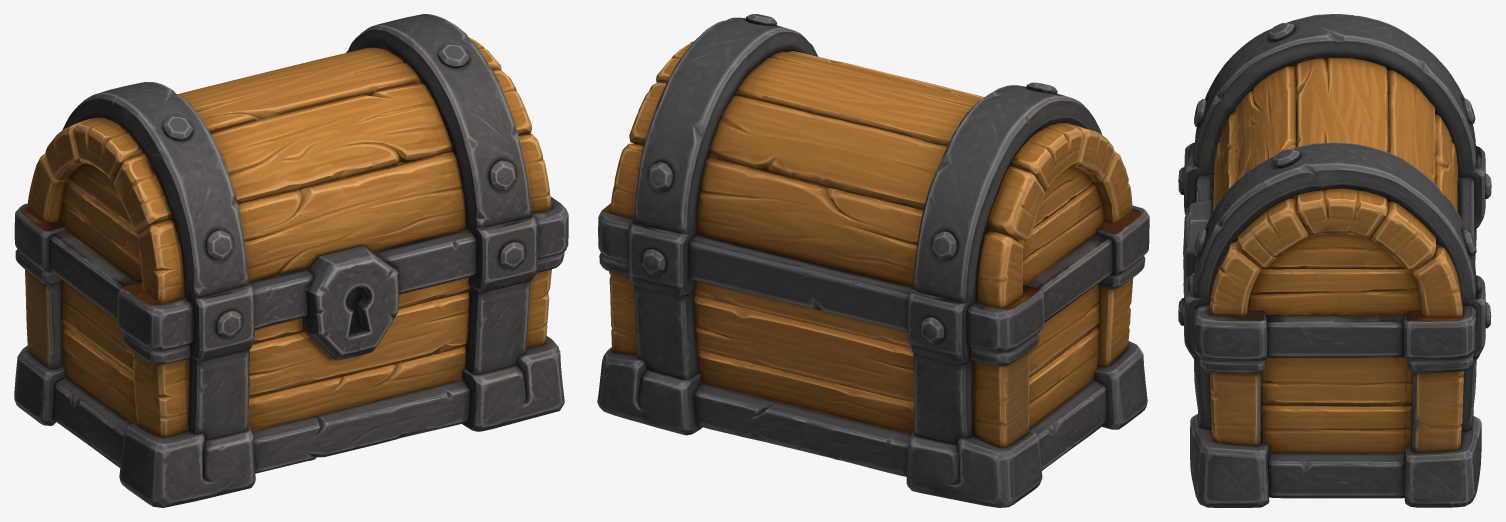
File: wood.glb
The picture shows the model from 3 angles, left to right: view 1: azimuth 30°, elevation 25°; view 2: azimuth 150°, elevation 25°; view 3: azimuth 270°, elevation 25°; orthographic projection. The views are drawn at different scales.
Size of the model in its own units: 1.9 by 1.48 by 1.29.
1 material, 1 textured.
